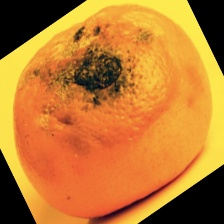orange: (38, 53, 209, 206)
